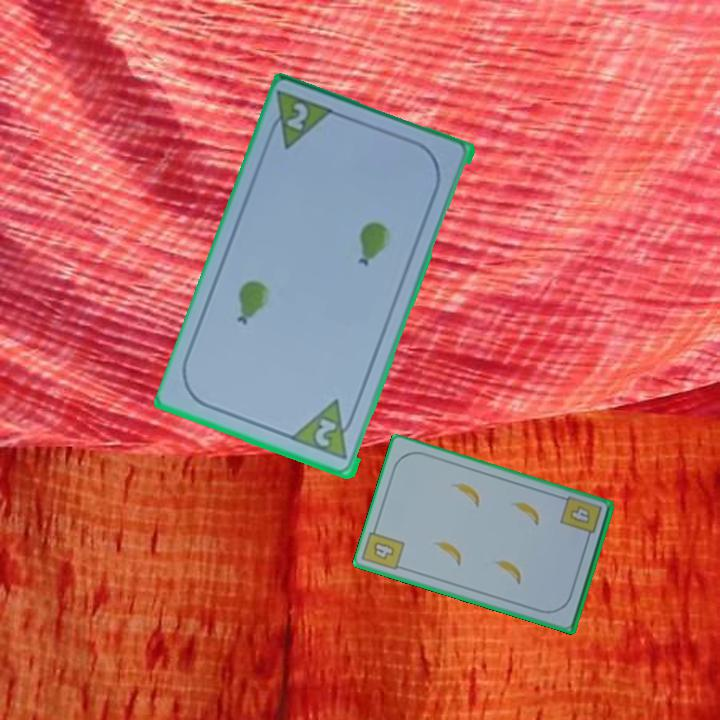2p: (263, 87, 340, 153), (311, 415, 340, 450)
4b: (557, 495, 604, 545), (369, 538, 397, 563)
